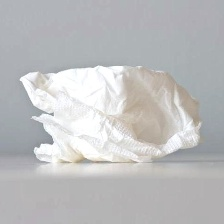tissue: (15, 57, 209, 172)
